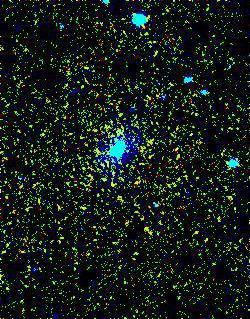star: (83, 140, 113, 170)
